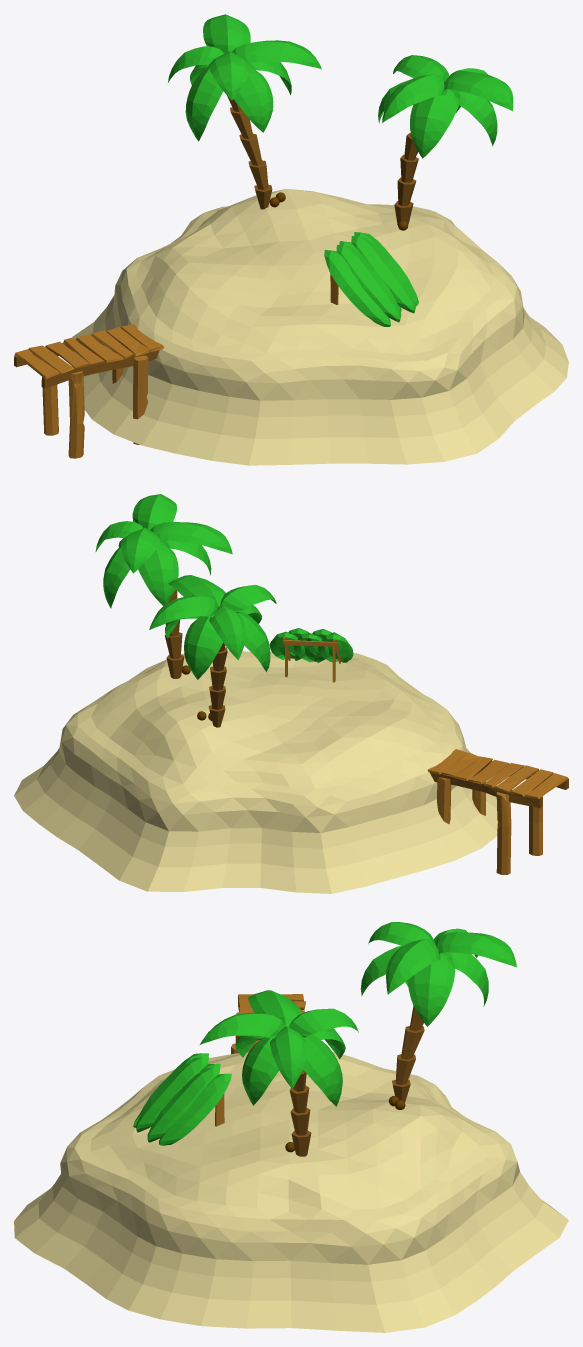
The model's file is center.gltf.
3 views of the same model, one above another, from view 1: azimuth 30°, elevation 25°; view 2: azimuth 150°, elevation 25°; view 3: azimuth 270°, elevation 25° (orthographic). The views are drawn at different scales.
Visible parts, largest first — view 1: Island, Tree2, Tree3, Dock, Shack; view 2: Island, Tree2, Tree3, Dock, Shack; view 3: Island, Tree3, Tree2, Shack, Dock.
Boxes of the visible parts, x1,y1,x2,y2 form: Island: (72, 189, 568, 465); Tree2: (168, 14, 321, 209); Tree3: (378, 55, 513, 225); Dock: (14, 324, 164, 458); Shack: (324, 232, 418, 326); Island: (14, 650, 501, 893); Tree2: (149, 575, 276, 727); Tree3: (95, 494, 232, 678); Dock: (427, 749, 568, 874); Shack: (269, 628, 353, 682); Island: (14, 1051, 568, 1332); Tree3: (200, 990, 358, 1156); Tree2: (360, 922, 516, 1102); Shack: (133, 1053, 231, 1145); Dock: (231, 994, 305, 1054).
Bounding box in the file's own units: 5.42 × 2.93 × 4.9.
